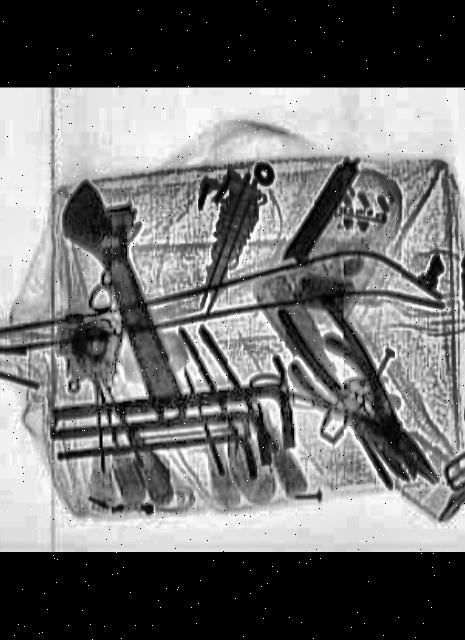Pliers: (267, 292, 438, 494), (276, 334, 464, 502)
Wrench: (43, 176, 214, 437)
